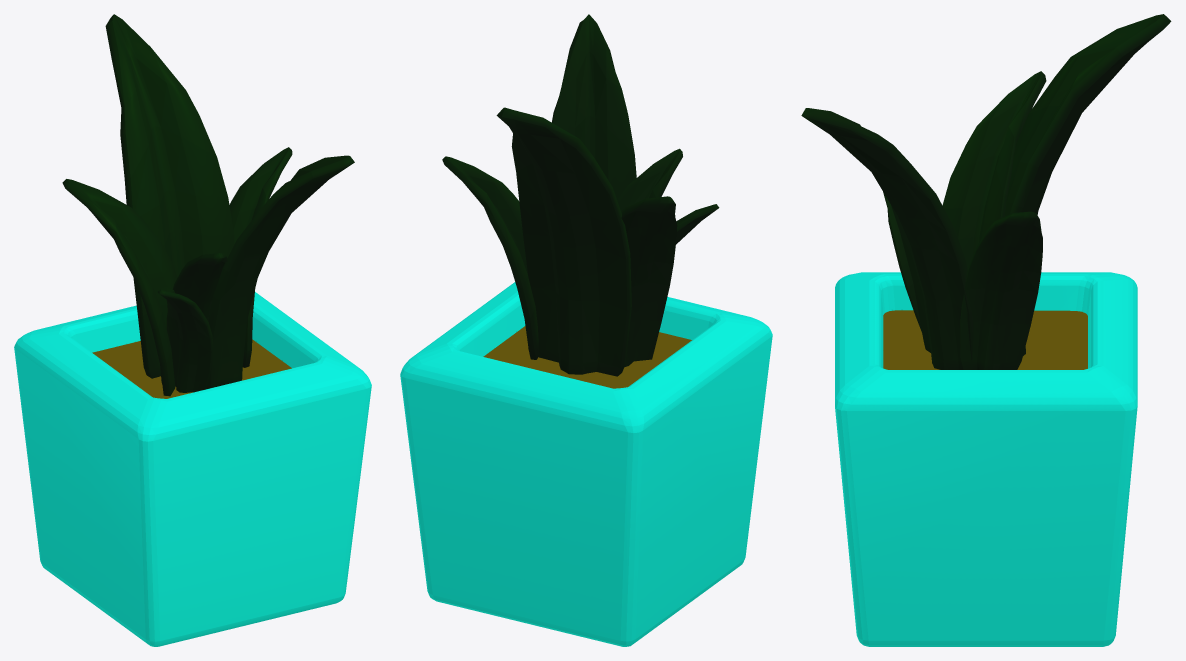
The model's file is plant.glb.
The picture shows the model from 3 angles, left to right: view 1: azimuth 30°, elevation 25°; view 2: azimuth 150°, elevation 25°; view 3: azimuth 270°, elevation 25°; orthographic projection. The views are drawn at different scales.
Parts seen in each view (by area): view 1: room2_plant; view 2: room2_plant; view 3: room2_plant.
Part boxes in pixels (<box>): room2_plant: <box>14,14,371,646</box>; room2_plant: <box>400,14,772,646</box>; room2_plant: <box>801,14,1171,646</box>.
Size of the model in its own units: 0.8665 by 1.82 by 1.05.
1 material, 1 textured.
